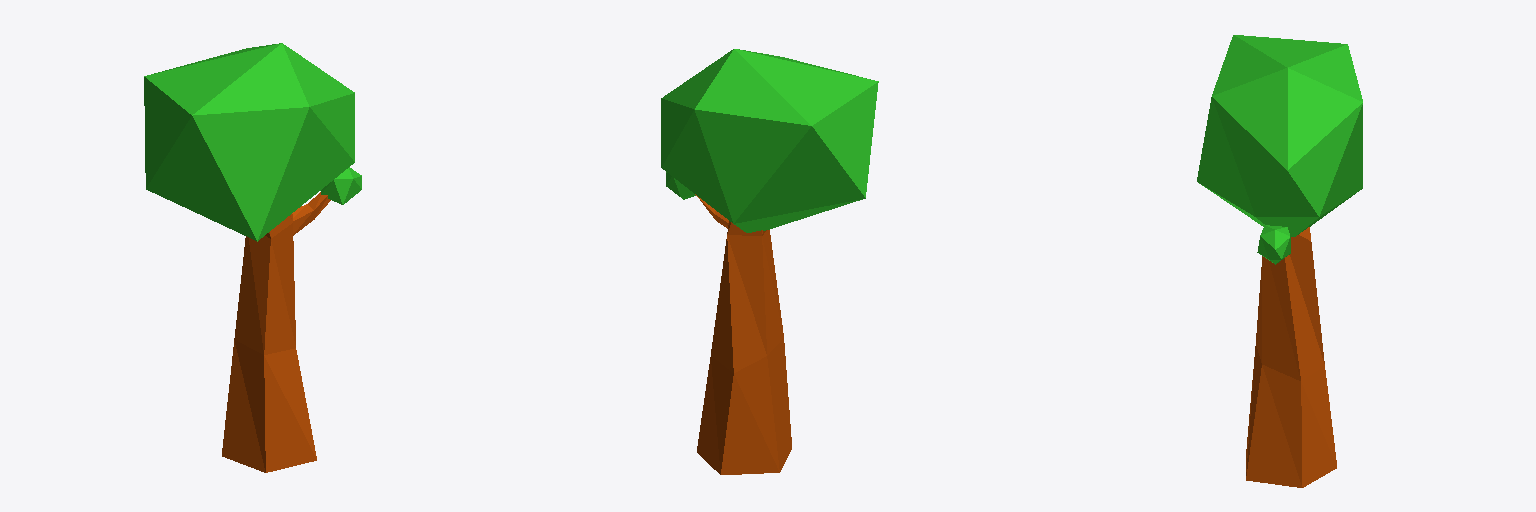
Rendered from arbre1.obj.
The picture shows the model from 3 angles: view 1: azimuth 30°, elevation 25°; view 2: azimuth 150°, elevation 25°; view 3: azimuth 270°, elevation 25°; orthographic projection.
Parts seen in each view (by area): view 1: Icosphere_Icosphere.001, Cylinder_Cylinder.001; view 2: Icosphere_Icosphere.001, Cylinder_Cylinder.001; view 3: Icosphere_Icosphere.001, Cylinder_Cylinder.001.
Part boxes in pixels (x1,y1,x2,y2): Icosphere_Icosphere.001: (144,43,361,241); Cylinder_Cylinder.001: (222,192,330,472); Icosphere_Icosphere.001: (661,49,878,232); Cylinder_Cylinder.001: (695,194,791,474); Icosphere_Icosphere.001: (1197,35,1362,264); Cylinder_Cylinder.001: (1246,227,1336,487).
Bounding box in the file's own units: 8.38 × 15.62 × 5.82.